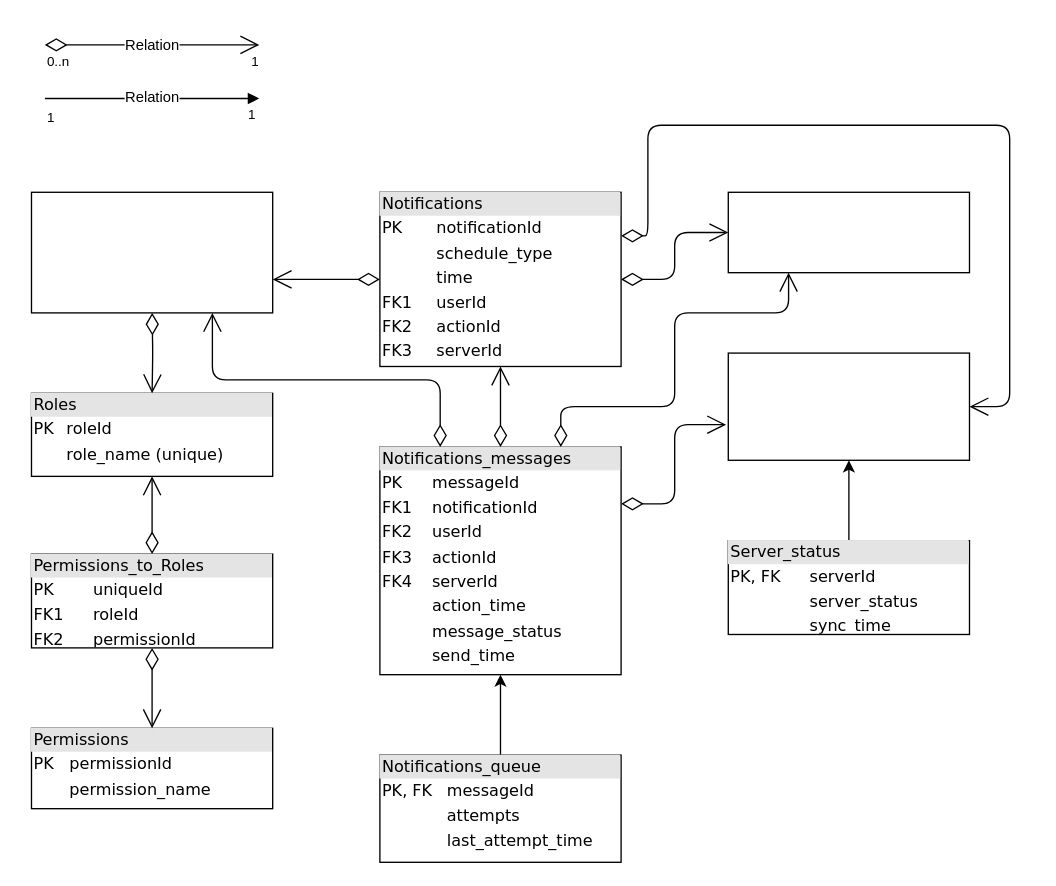
The diagram is 1056 pixels wide and 886 high, and some of its shapes have lost their labels. Each missing label, with the centre of its shape:
Server_actions PK actionId description: [848,232]
Servers PK serverId servername address: [848,406]
Users PK userId username (unique) password(hash) FK roleID: [151,252]
